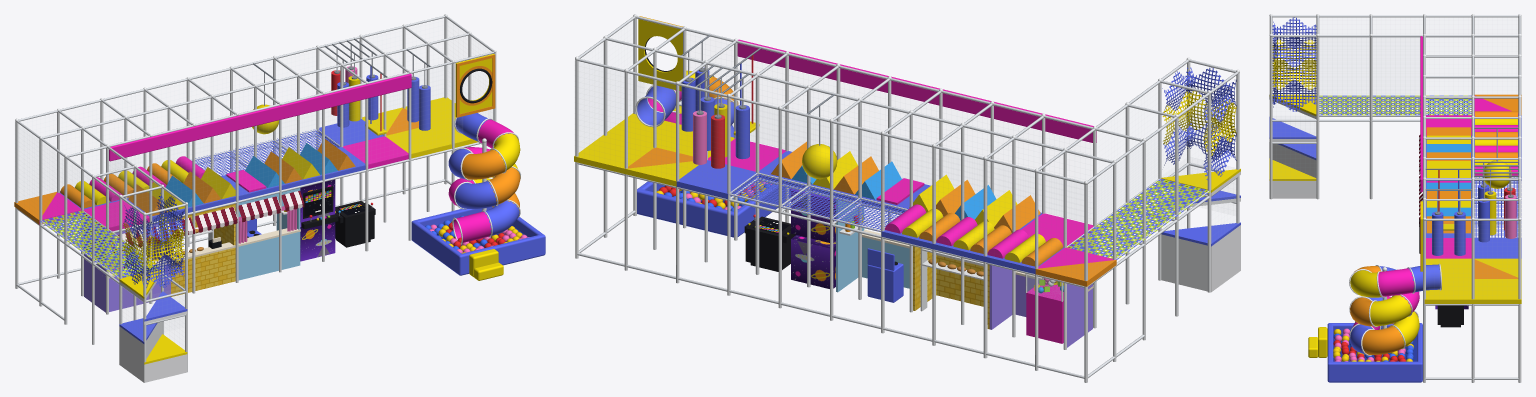
File: brinquedao-modelo-3.glb
The picture shows the model from 3 angles, left to right: view 1: azimuth 30°, elevation 25°; view 2: azimuth 150°, elevation 25°; view 3: azimuth 270°, elevation 25°; orthographic projection. The views are drawn at different scales.
Parts seen in each view (by area): view 1: estrutura-branca, travessas, azul, magenta, amarelo, tela-protecao, laranja, rede-azul, rede-da-passarela, toboga-azul, azul-bebe, tijolinho-amarelo (+16 smaller); view 2: estrutura-branca, travessas, azul, magenta, amarelo, tela-protecao, rede-azul, laranja, rede-da-passarela, espuma-branca, lilas, arte-espacial (+11 smaller); view 3: amarelo, travessas, azul, estrutura-branca, laranja, tela-protecao, rede-azul, rede-da-passarela, magenta, toboga-amarelo, espuma-branca, toboga-laranja (+10 smaller).
Boxes of the visible parts, x1,y1,x2,y2 form: estrutura-branca: (15,14,520,371); travessas: (16,15,494,325); azul: (59,66,545,343); magenta: (39,73,411,270); amarelo: (75,54,503,364); tela-protecao: (19,65,492,331); laranja: (14,54,495,224); rede-azul: (123,129,339,287); rede-da-passarela: (40,210,160,278); toboga-azul: (448,113,519,236); azul-bebe: (238,188,300,280); tijolinho-amarelo: (171,203,235,296); estrutura-branca: (575,14,1239,382); travessas: (577,16,1238,378); azul: (637,63,1240,302); magenta: (708,39,1113,343); amarelo: (574,16,1240,262); tela-protecao: (579,62,1235,275); rede-azul: (728,67,1236,231); laranja: (628,16,1116,286); rede-da-passarela: (1067,179,1210,259); espuma-branca: (1161,171,1240,292); lilas: (989,236,1092,347); arte-espacial: (791,192,835,288); amarelo: (1269,94,1521,357); travessas: (1270,15,1520,379); azul: (1269,115,1521,382); estrutura-branca: (1269,14,1521,382); laranja: (1420,94,1521,278); tela-protecao: (1273,38,1419,135); rede-azul: (1272,17,1517,237); rede-da-passarela: (1319,95,1471,115); magenta: (1420,36,1518,258); toboga-amarelo: (1350,270,1419,346); espuma-branca: (1269,97,1316,198); toboga-laranja: (1350,266,1404,354).
Bounding box in the file's own units: 10 × 3.75 × 5.2.
Materials: 36 (9 with a texture image).
